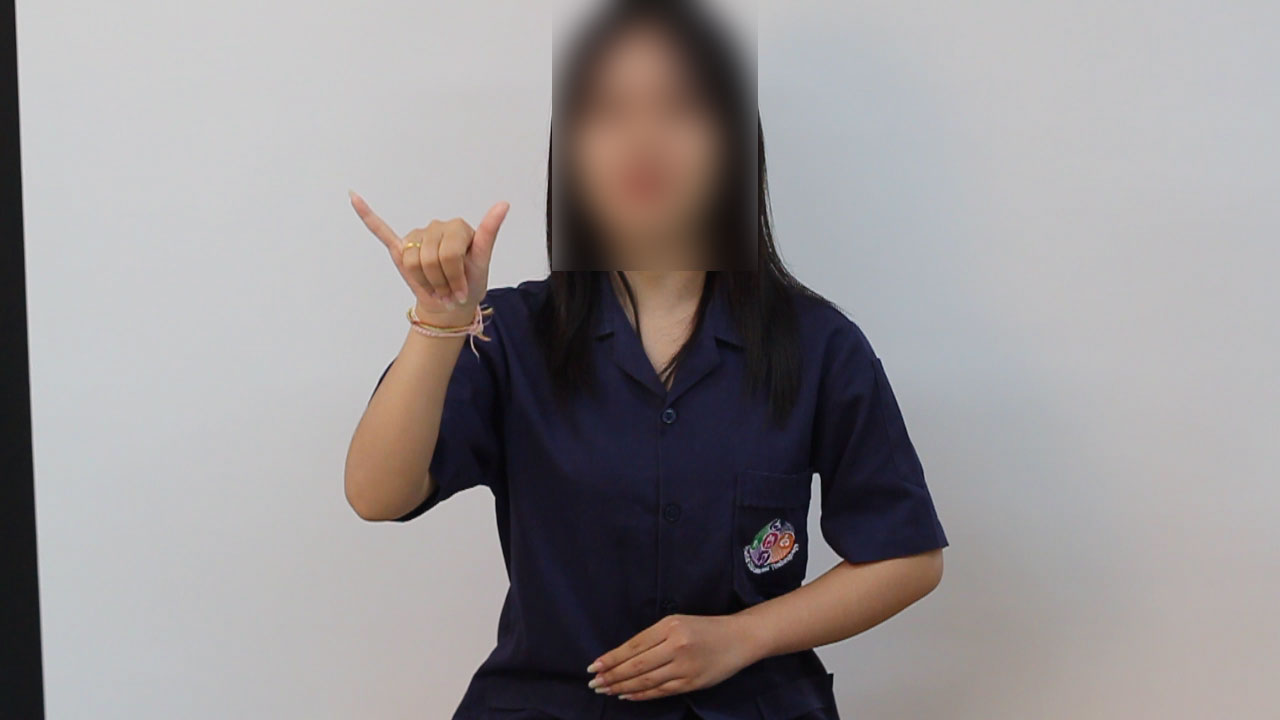yor: (335, 180, 533, 324)
